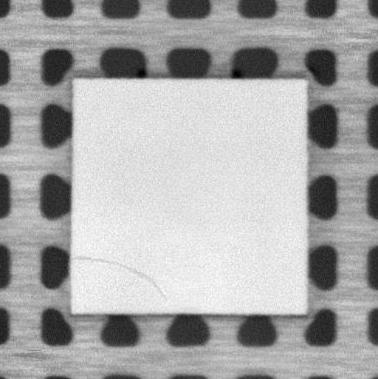DIE_CRACK: (75, 255, 168, 300)
